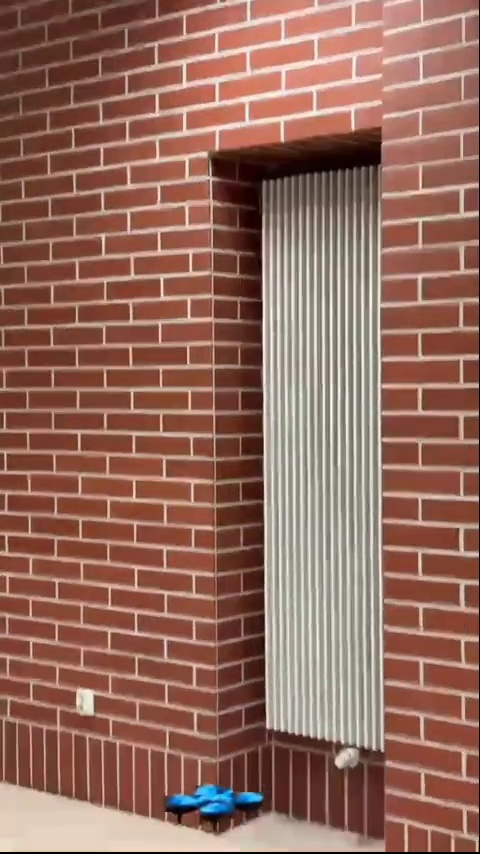drone: (165, 785, 266, 825)
